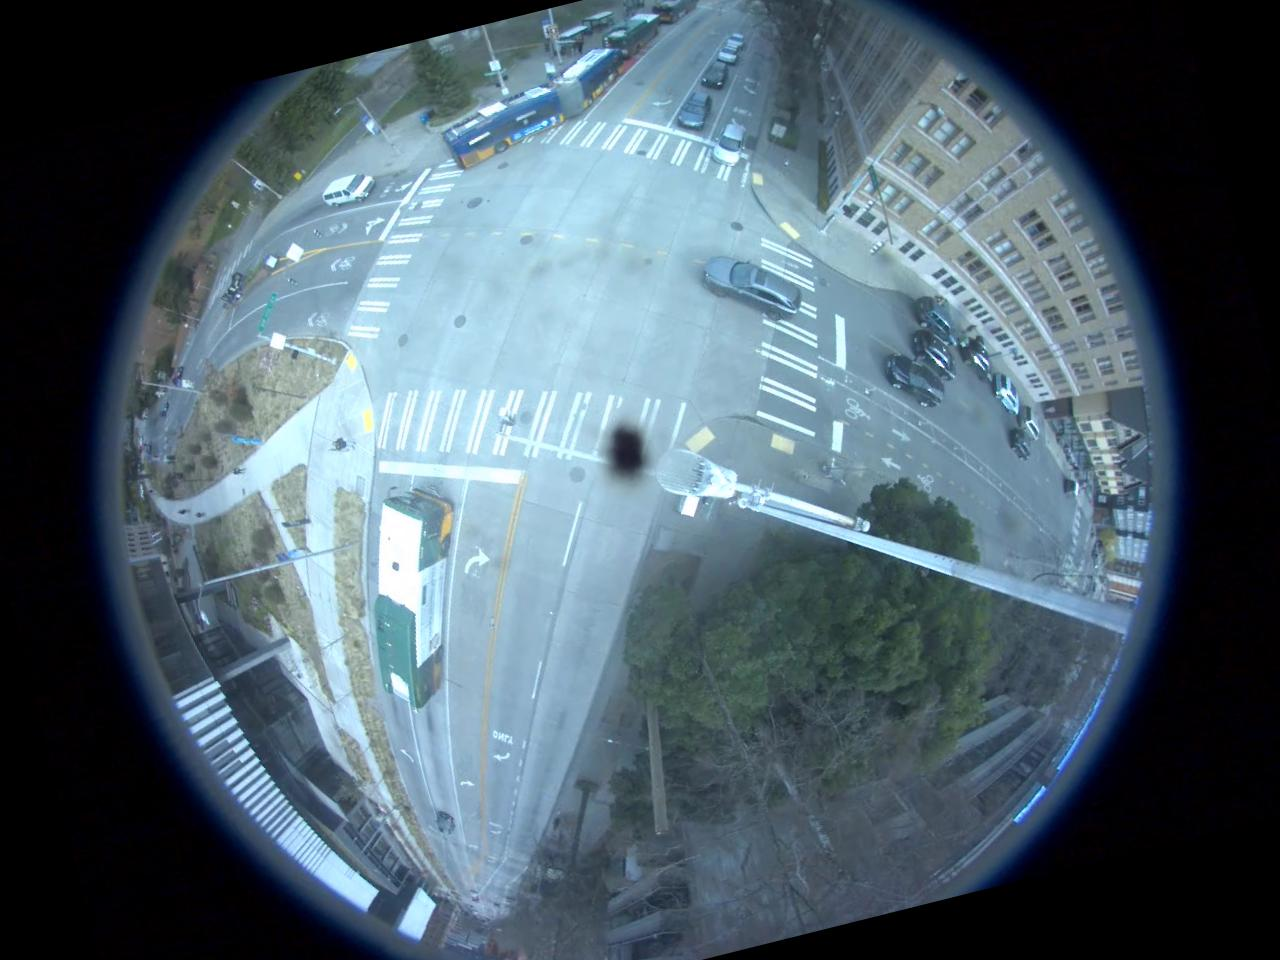bus: (337, 481, 494, 712), (431, 42, 641, 170), (602, 8, 666, 56), (652, 0, 705, 23)
car: (698, 240, 804, 332), (882, 346, 945, 416), (913, 290, 959, 349), (916, 324, 960, 384), (319, 170, 378, 210), (956, 332, 996, 388), (676, 88, 719, 134), (709, 121, 750, 168), (990, 372, 1023, 420), (1016, 400, 1044, 441), (698, 60, 731, 93), (1006, 425, 1032, 463), (716, 38, 742, 64)
person: (328, 432, 356, 454), (228, 464, 249, 480)
